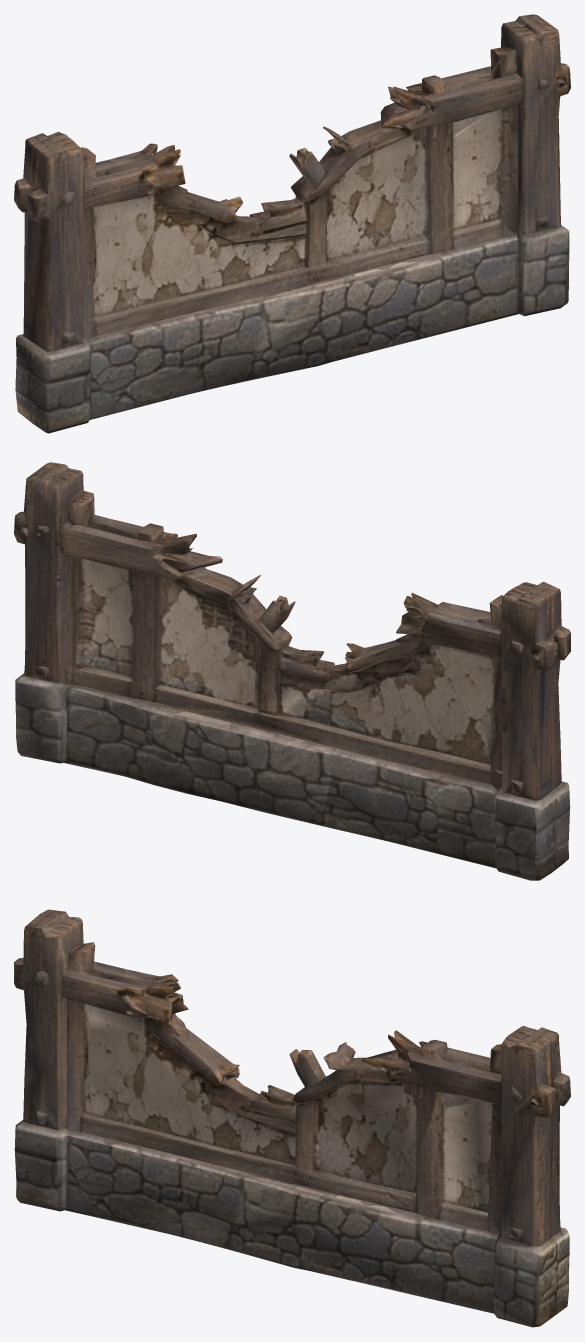
3 views of the same model, one above another, from view 1: azimuth 30°, elevation 25°; view 2: azimuth 150°, elevation 25°; view 3: azimuth 330°, elevation 25° (orthographic).
Parts seen in each view (by area): view 1: geometry_0; view 2: geometry_0; view 3: geometry_0.
Part boxes in pixels (<box>): geometry_0: <box>14,14,570,433</box>; geometry_0: <box>14,462,570,880</box>; geometry_0: <box>14,909,570,1327</box>.
Size of the model in its own units: 3 by 1.48 by 0.3278.
Materials: 1 (1 with a texture image).
